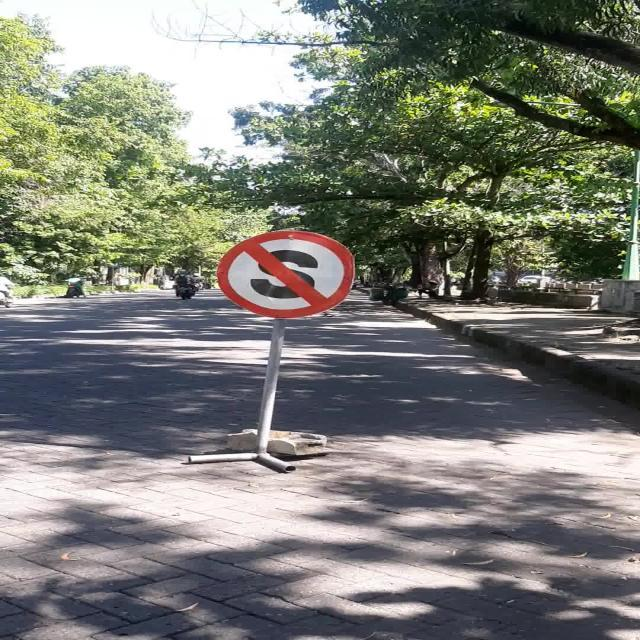Dilarang Berhenti: (216, 230, 354, 318)
